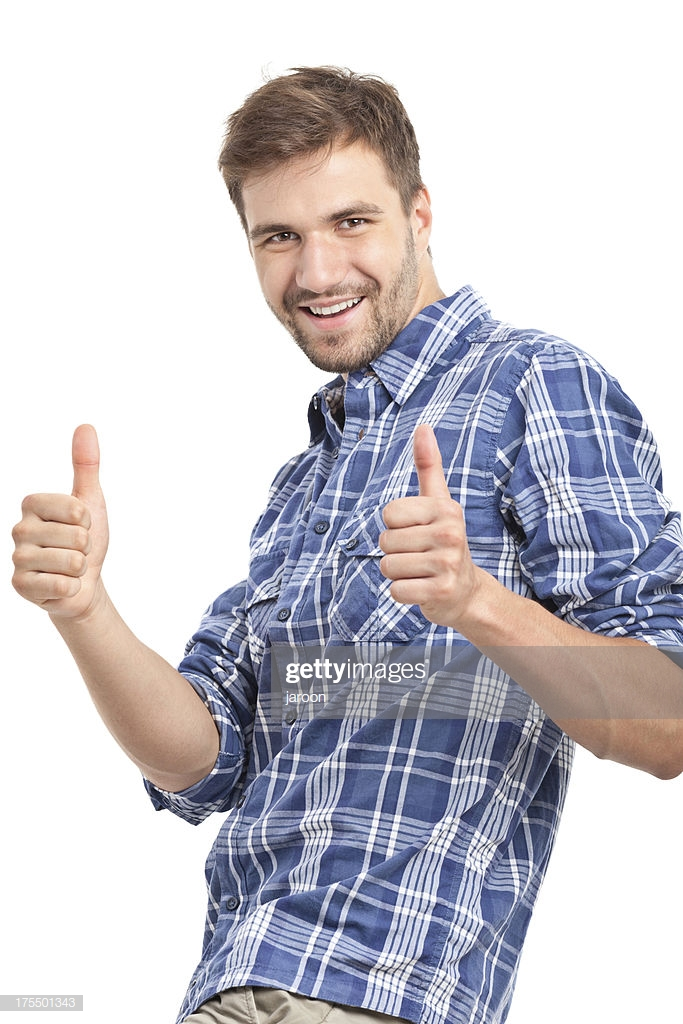thumbsup: (10, 423, 107, 602), (377, 422, 469, 607)
